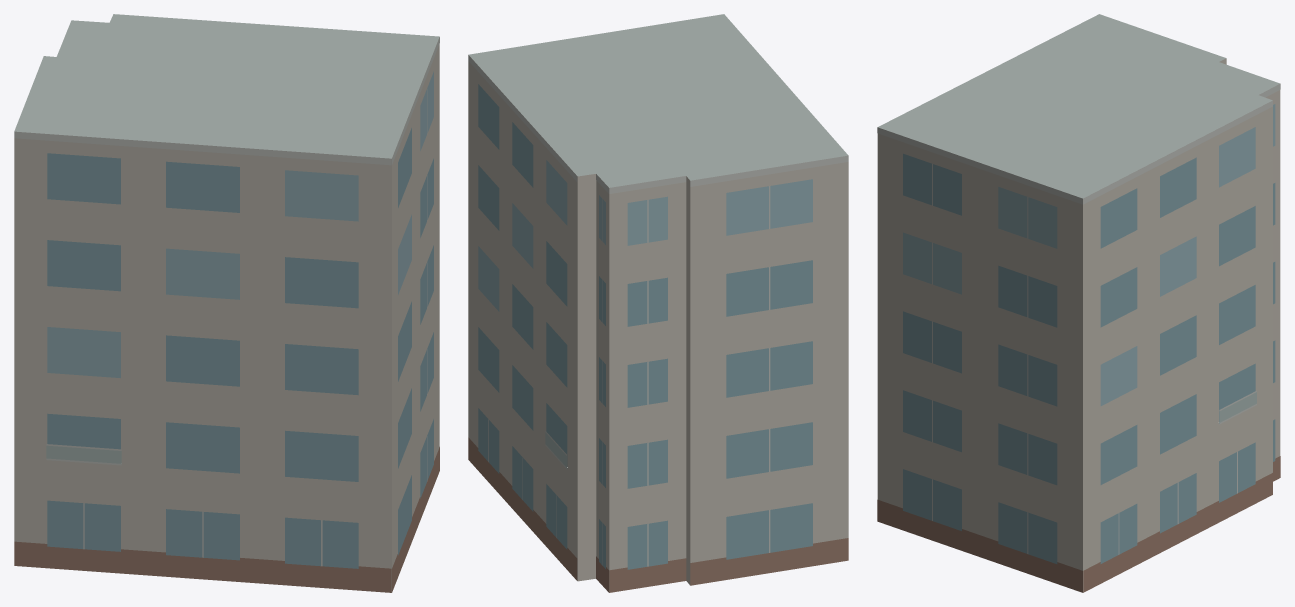
The model's file is survey-upis-32871166.glb.
3 renders of one model, left to right at view 1: azimuth 30°, elevation 25°; view 2: azimuth 150°, elevation 25°; view 3: azimuth 270°, elevation 25°, orthographic. The views are drawn at different scales.
Visible parts, largest first — view 1: survey-upis-32871166.tmp; view 2: survey-upis-32871166.tmp; view 3: survey-upis-32871166.tmp.
Part boxes in pixels (x1=…): survey-upis-32871166.tmp: x1=14, y1=14, x2=439, y2=592; survey-upis-32871166.tmp: x1=468, y1=14, x2=848, y2=592; survey-upis-32871166.tmp: x1=877, y1=14, x2=1280, y2=592.
Bounding box in the file's own units: 15.87 × 15.8 × 14.64.
